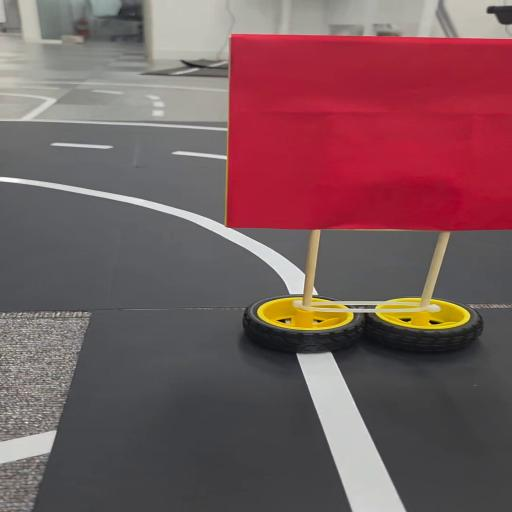Sign_A: (228, 32, 512, 350)
